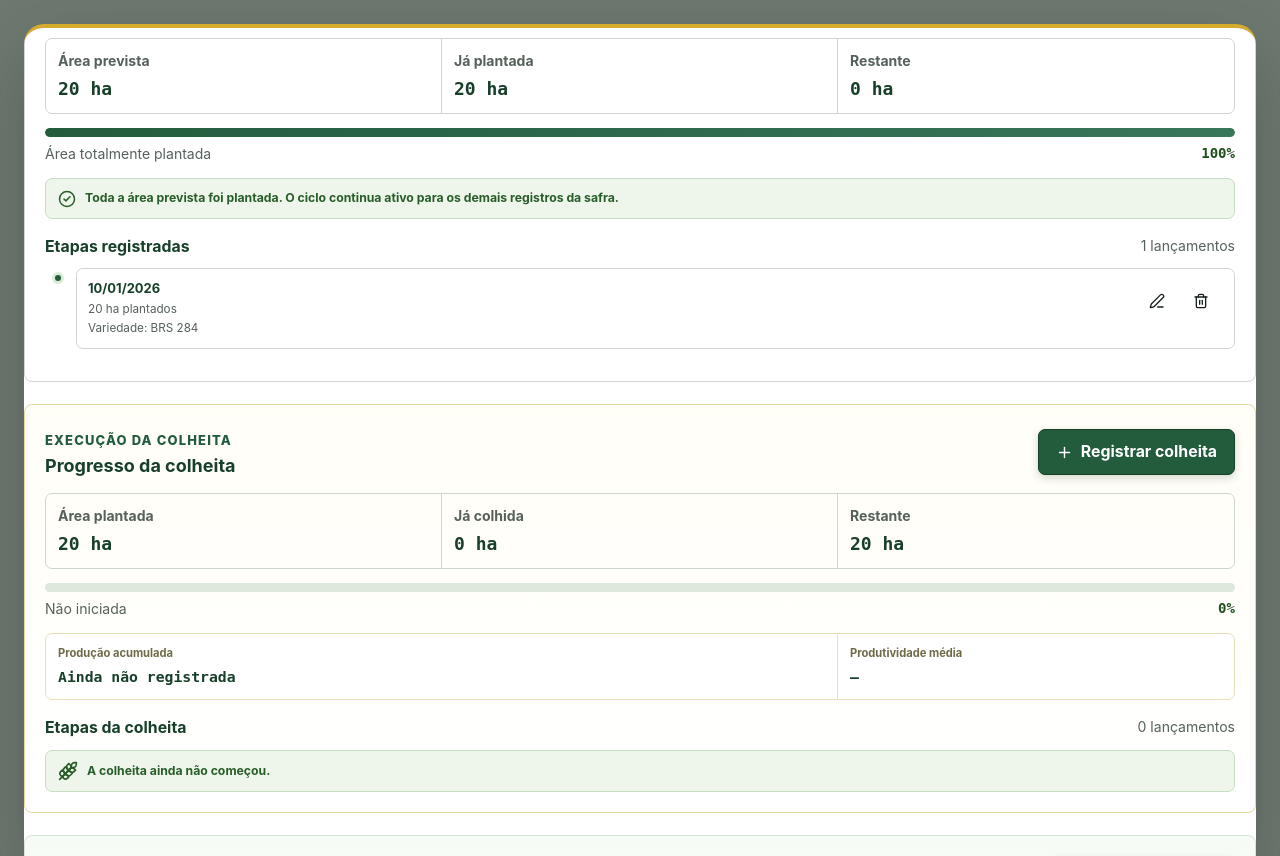
it: PlantingDetailsModal › registra a colheita do dia e recalcula a produção
(page scrolled)
Click the button "Registrar colheita" at (1136,452), box [1038, 429, 1235, 475]
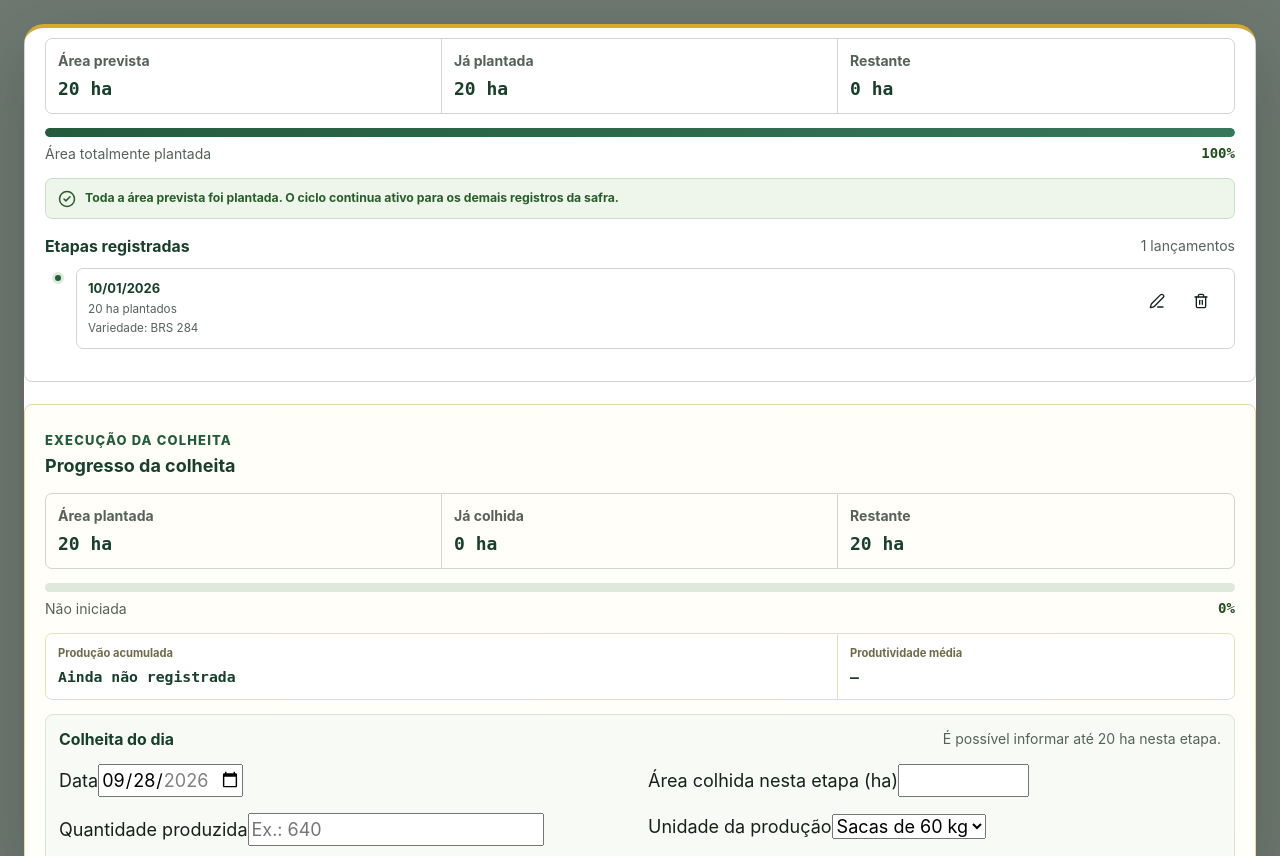
Type "8" into the number field labelled "Área colhida nesta etapa (ha)" at (964,780), box [898, 764, 1029, 797]
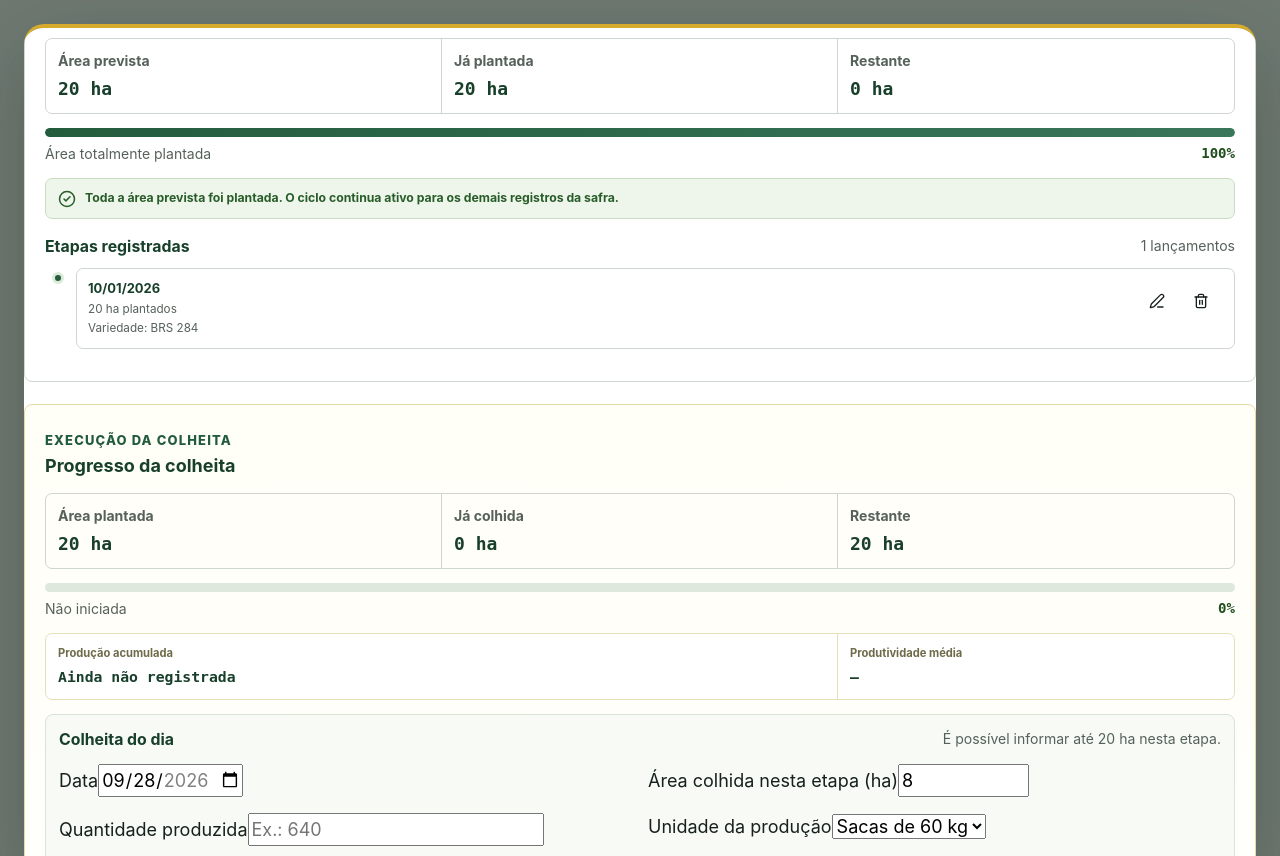
Type "640" into the number field labelled "Quantidade produzida" at (396,829), box [248, 813, 544, 846]
(page scrolled)
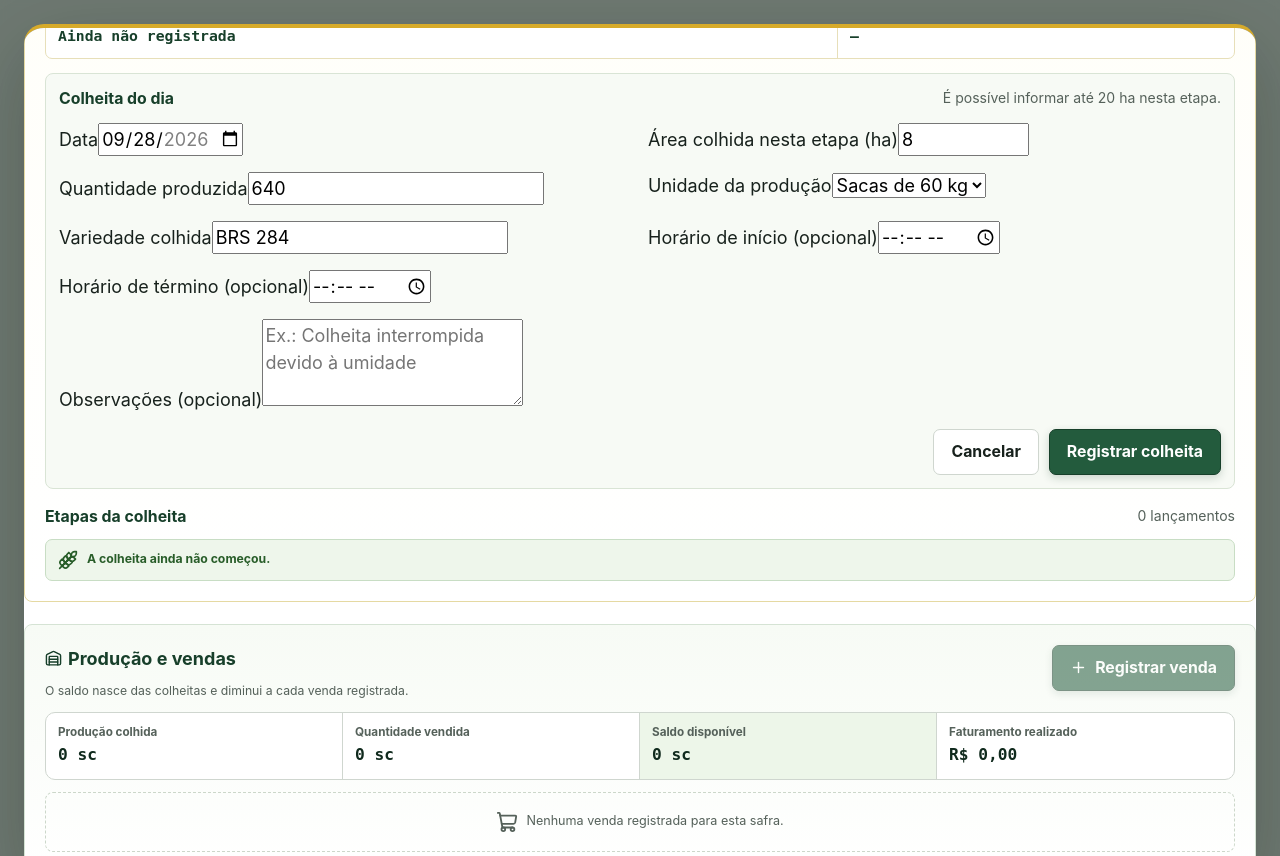
Click the button "Registrar colheita" at (1135,452), box [1049, 429, 1221, 475]
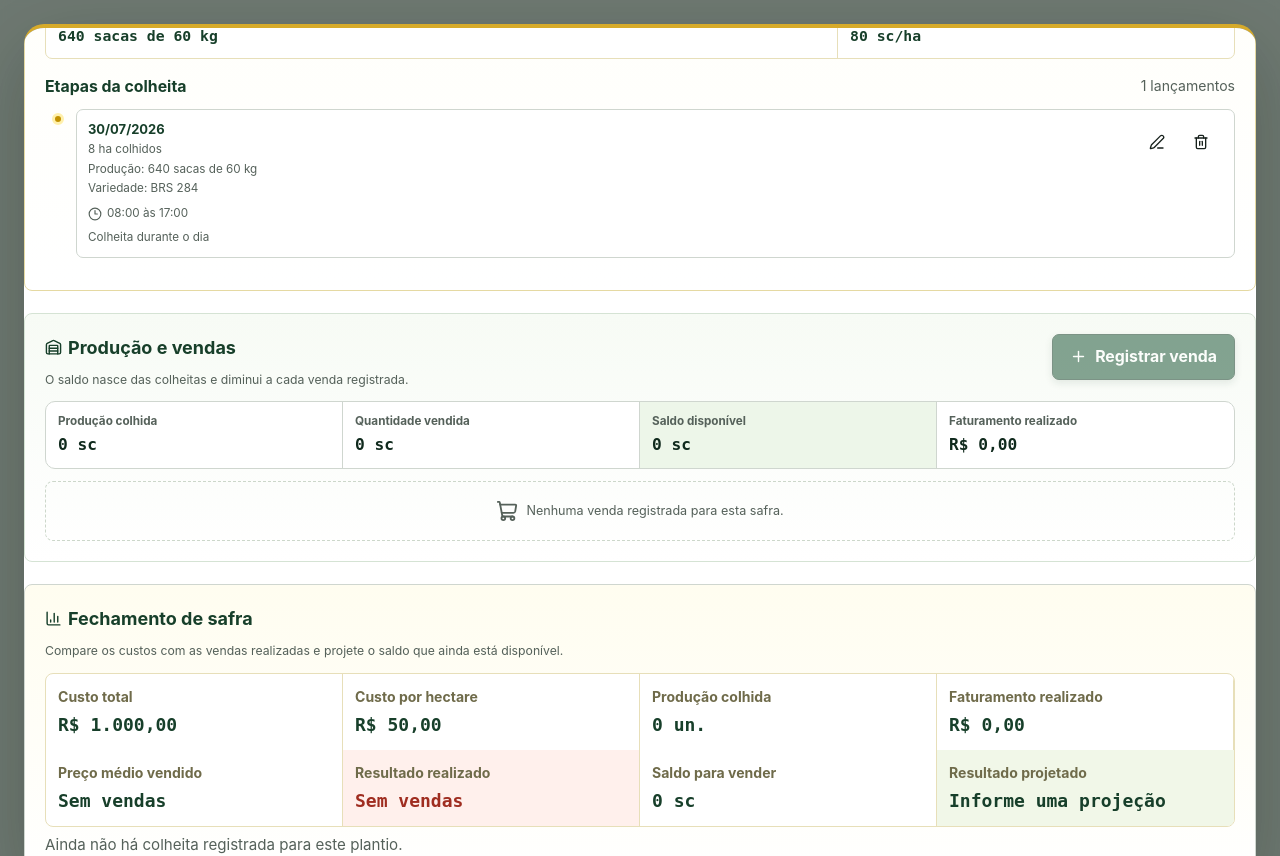
Expected: the text "8 ha colhidos" is shown, [88, 142, 162, 156]
Expected: the text "640 sacas de 60 kg" is shown 2 times, [58, 27, 218, 44]; [88, 161, 257, 178]
Expected: the text "80 sc/ha" is shown, [850, 27, 921, 44]
